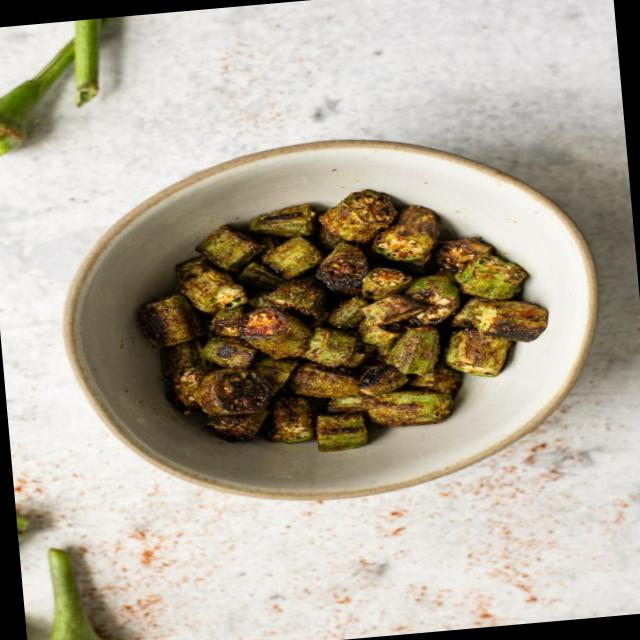BhindiMasala: (125, 172, 560, 467)
